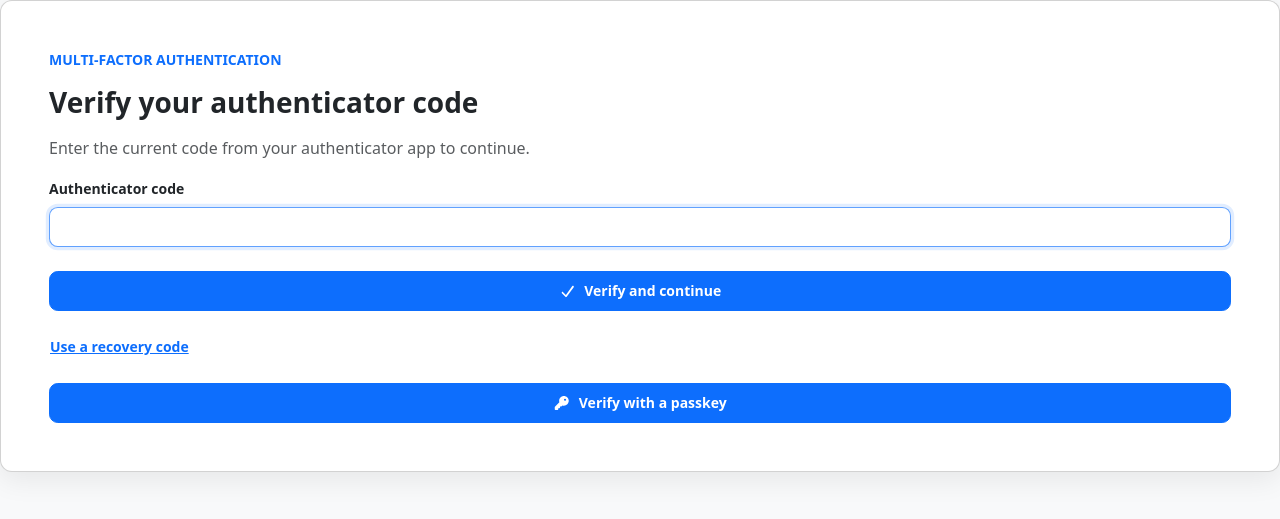
Test case: MFA authentication pages › shows a rejected login challenge code on the field and permits another attempt
Type "000000" into the field labelled "Authenticator code" at (640, 227), box [49,207,1231,247]
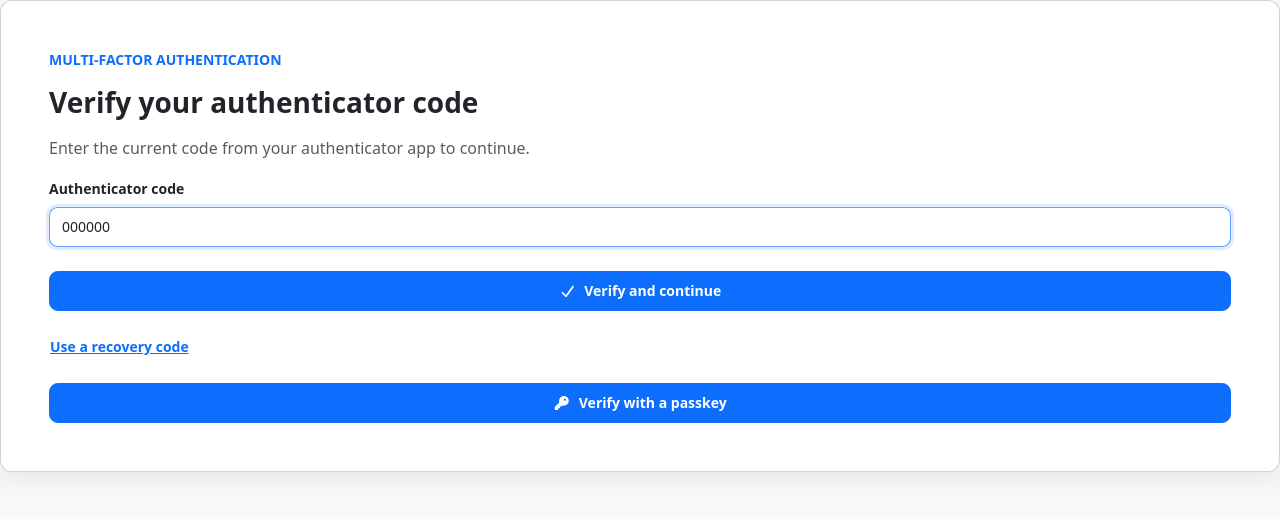
Click the button "Verify and continue" at (640, 291), box [49,271,1231,311]
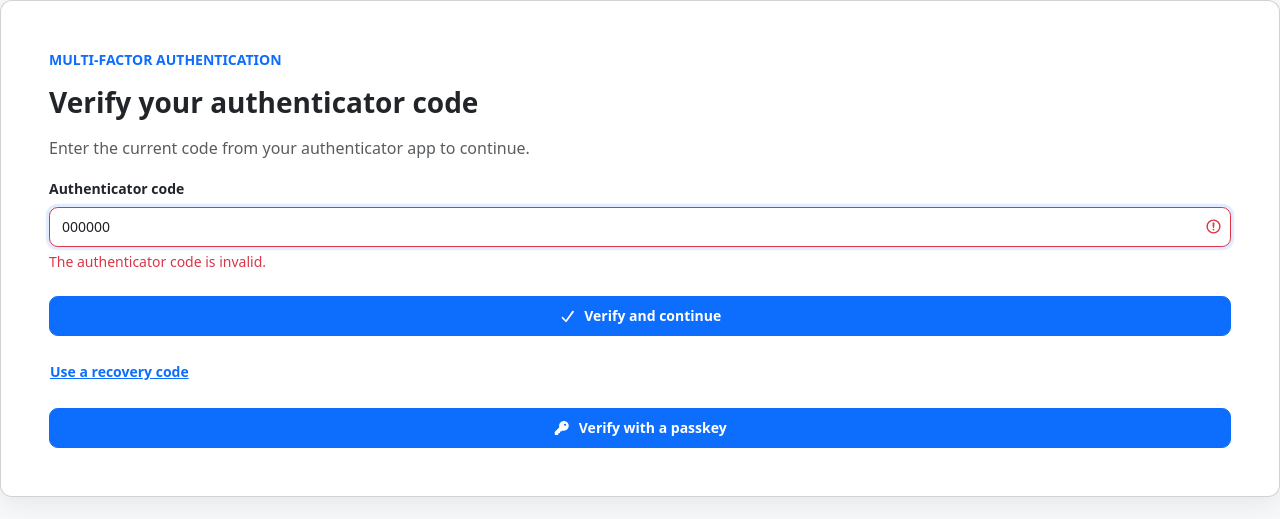
Expected: the button "Verify and continue" is enabled, [49,296,1231,336]
Now the text "The authenticator code is invalid." is shown, box [49,252,266,271]
